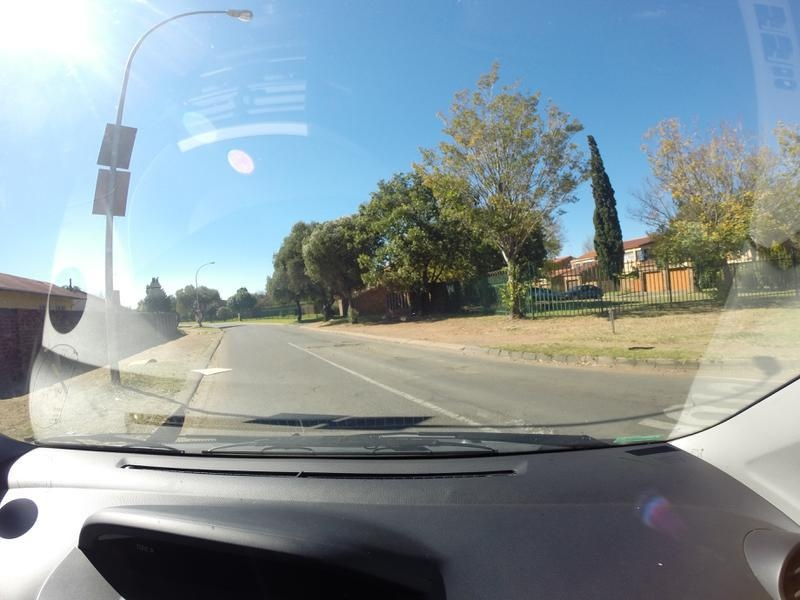pothole: (453, 356, 481, 381), (331, 334, 356, 352)
